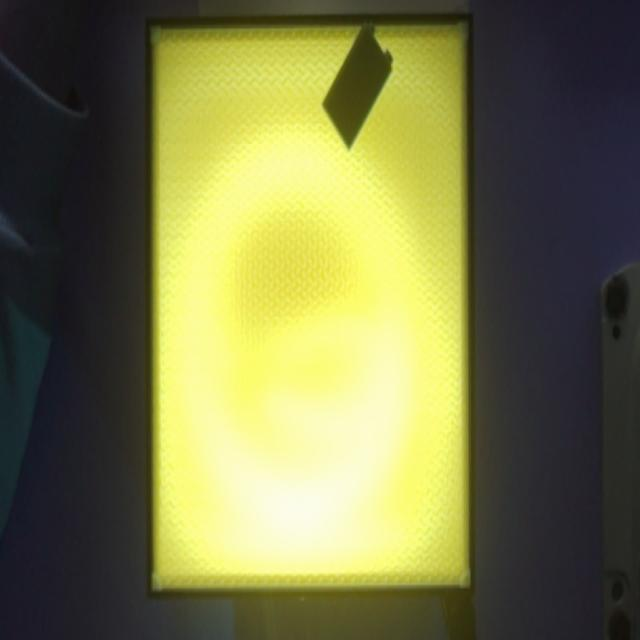bateria: (322, 22, 393, 150)
mesa: (146, 13, 474, 600)
